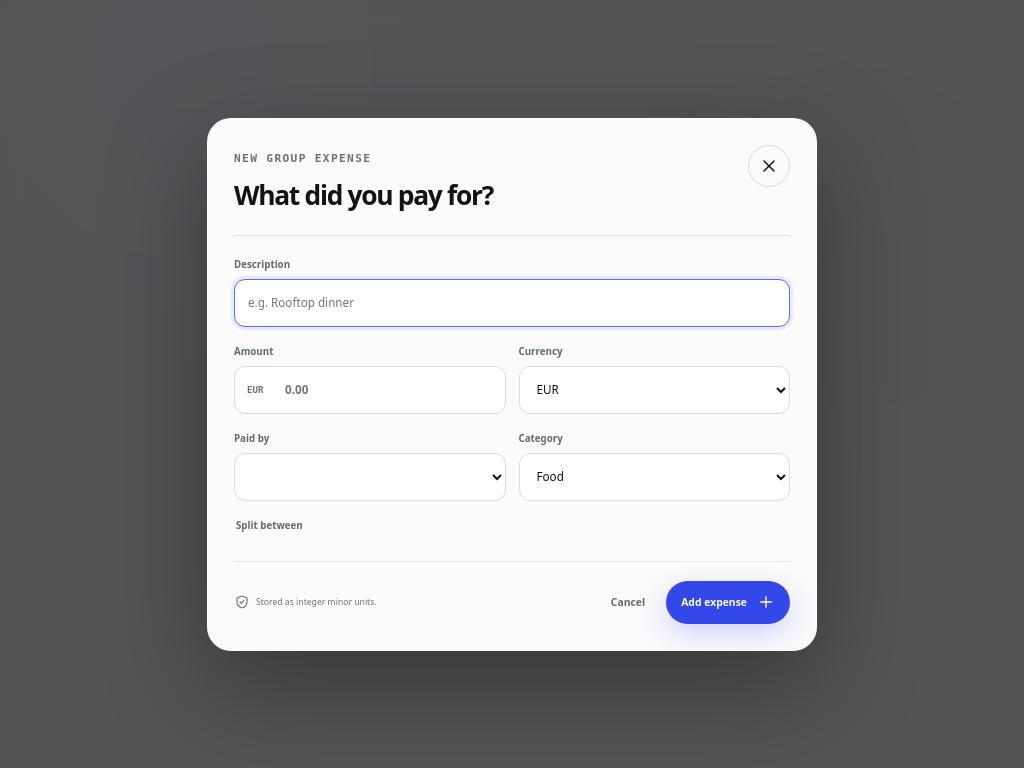
Scenario: AddExpenseDialog › rejects a valid-looking expense when no payer exists
The width and height of the screenshot is (1024, 768).
Type "Museum tickets" into the field labelled "Description" at {"x": 512, "y": 302}, box [234,278,790,326]
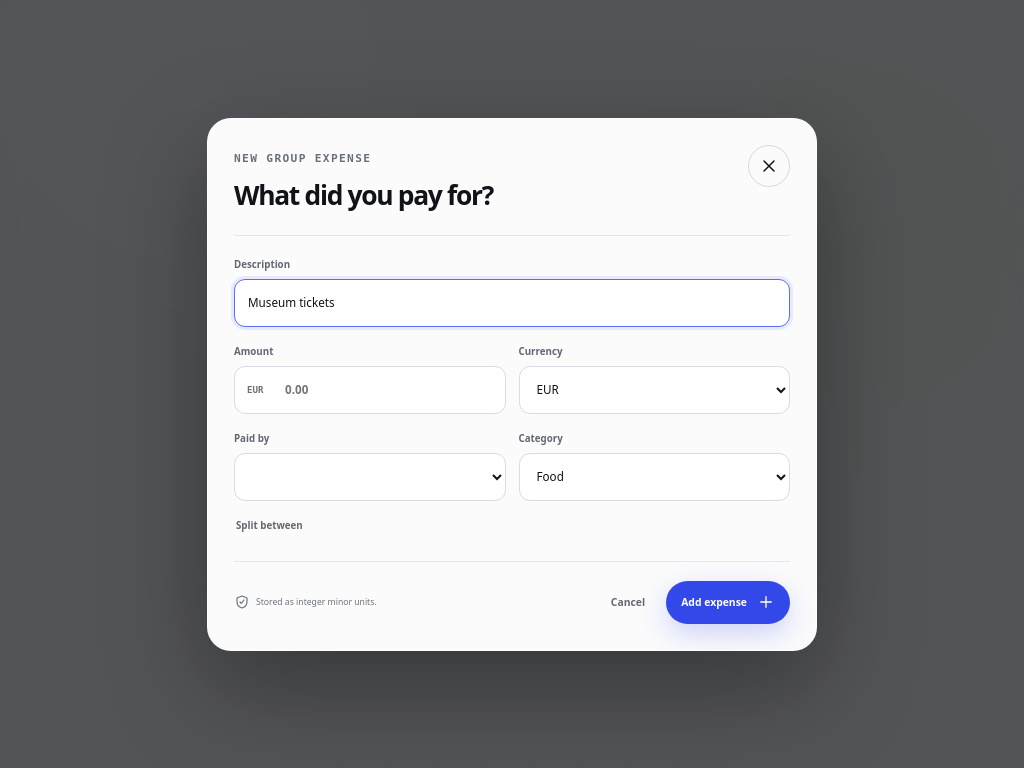
Type "24" into the number field labelled "Amount EUR" at {"x": 370, "y": 390}, box [234,366,506,414]
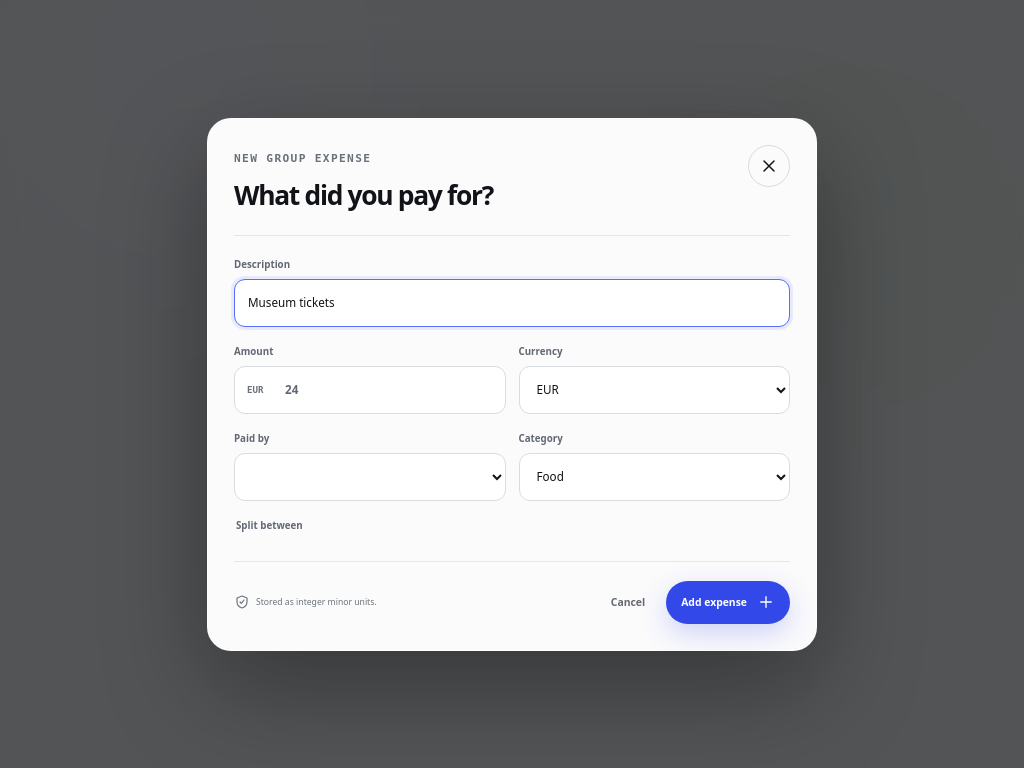
Click the button "Add expense" at {"x": 728, "y": 602}, box [666,580,790,624]
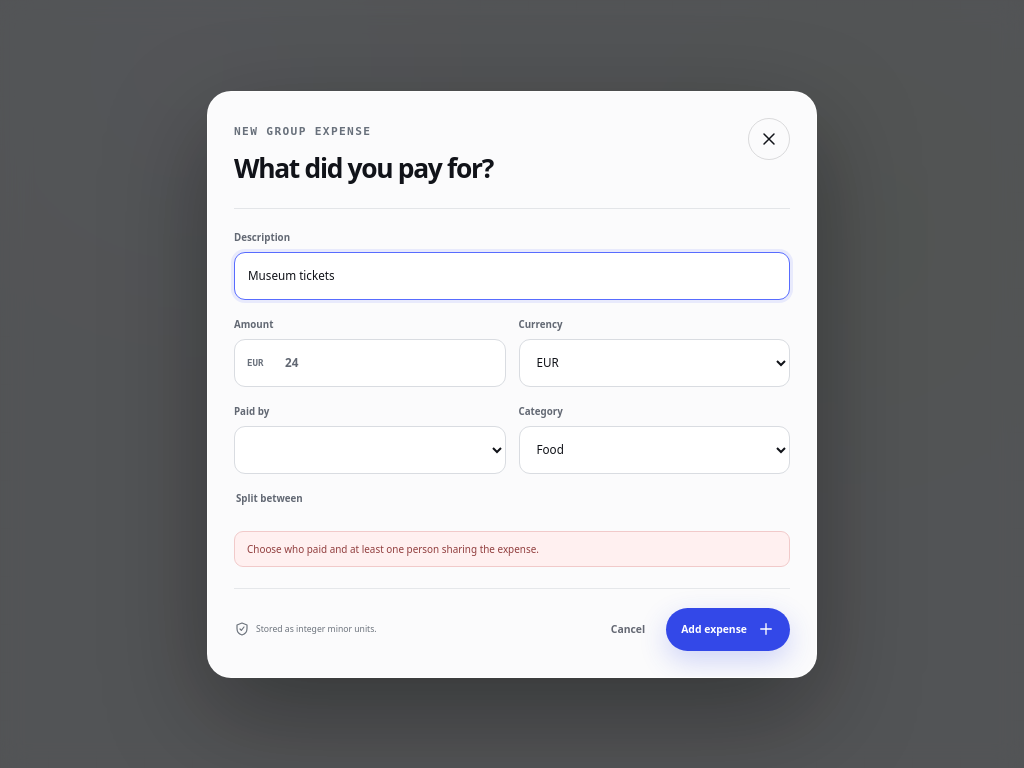
Check: the message shows "Choose who paid", box [247,542,539,556]
